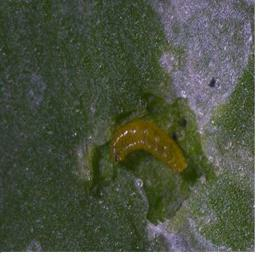liriomyza: (106, 118, 188, 176)
